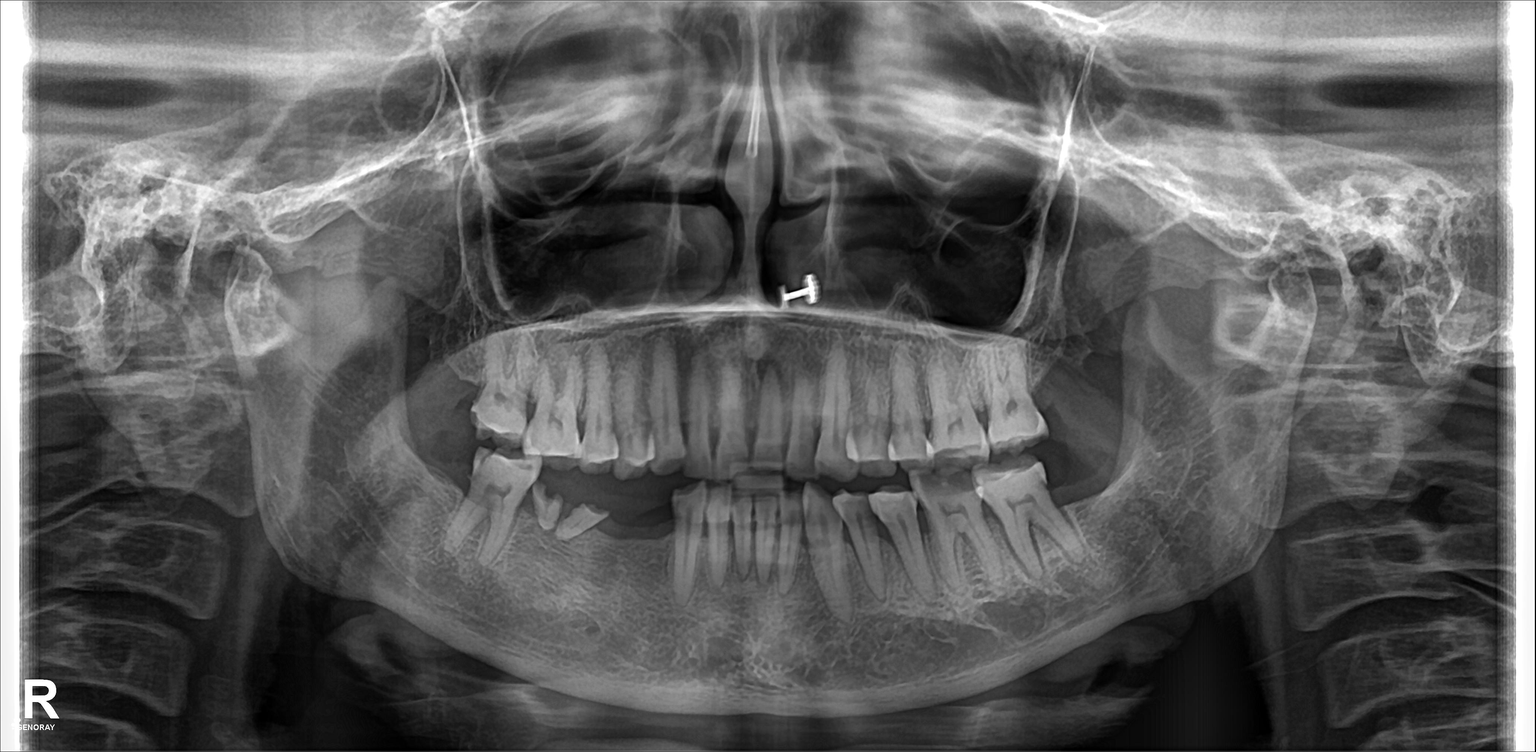Missing Tooth: (412, 447, 466, 539), (1073, 331, 1111, 428), (624, 506, 672, 581), (441, 354, 481, 435), (400, 352, 437, 439), (1060, 454, 1104, 526), (1039, 342, 1077, 425)
Retained Root: (566, 469, 615, 567), (529, 475, 560, 553)
